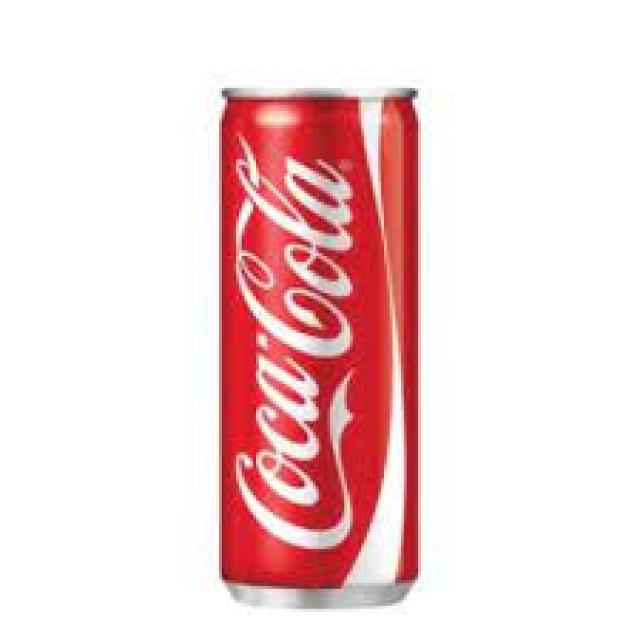Cans: (205, 71, 424, 615)
